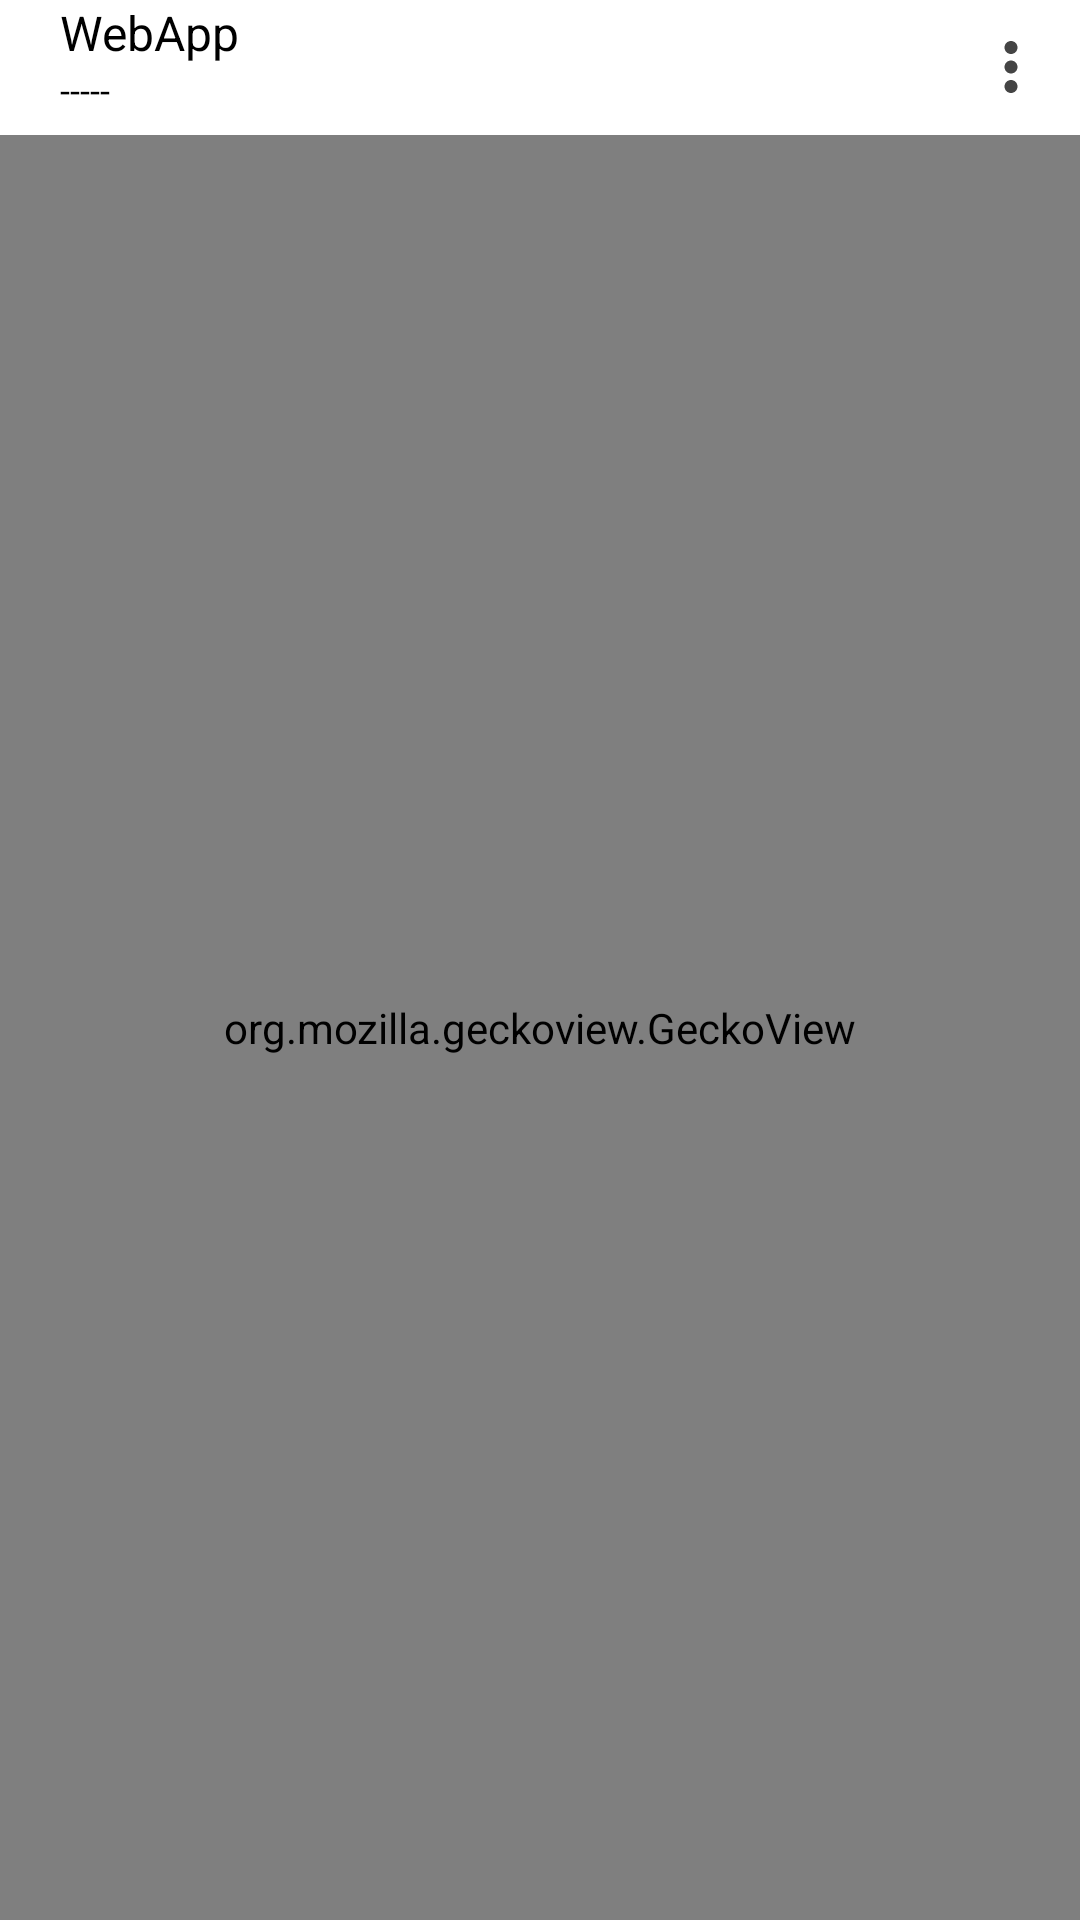

Where icons sit on this 1080x1920 app screen, as (x1=x1, y1=y1, x2=x2, y2=y2):
more vertical: (x1=1004, y1=41, x2=1018, y2=93)
